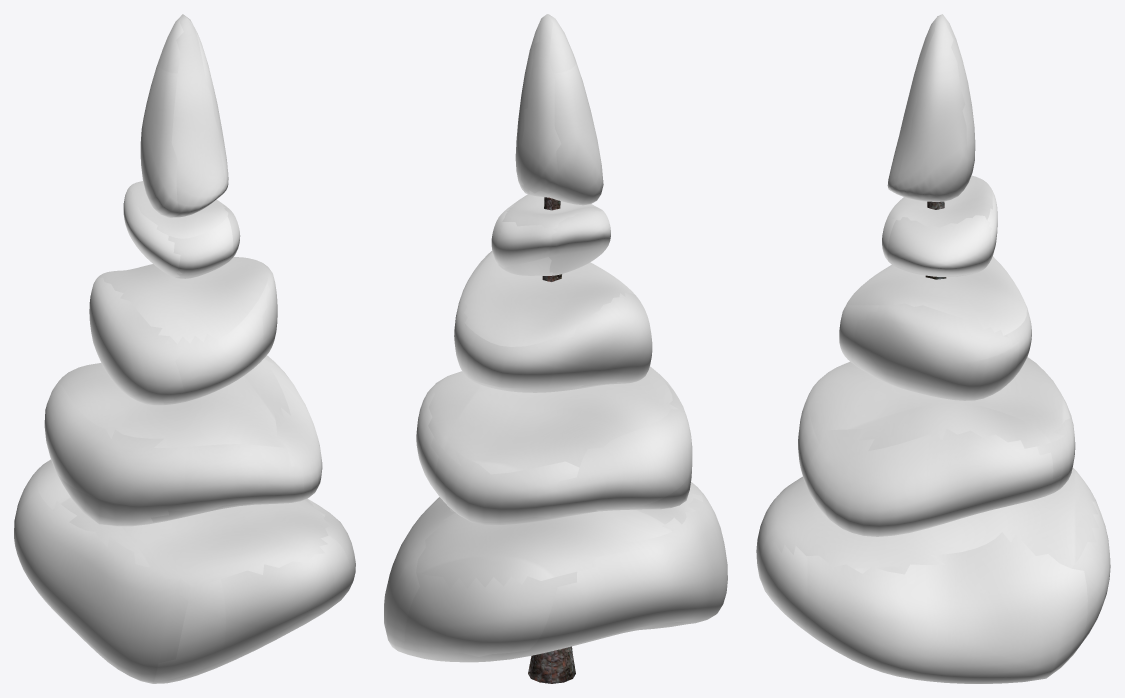
The model's file is arbol_1.obj.
The picture shows the model from 3 angles, left to right: view 1: azimuth 30°, elevation 25°; view 2: azimuth 150°, elevation 25°; view 3: azimuth 270°, elevation 25°; orthographic projection. The views are drawn at different scales.
Visible parts, largest first — view 1: arbol_1_Mesh8; view 2: arbol_1_Mesh8; view 3: arbol_1_Mesh8.
Part boxes in pixels (box(x1,y1,x2,y2)): arbol_1_Mesh8: box(14, 14, 355, 683); arbol_1_Mesh8: box(384, 14, 727, 683); arbol_1_Mesh8: box(756, 14, 1110, 683).
Size of the model in its own units: 2.03 by 4.31 by 2.11.
Materials: 1 (1 with a texture image).
